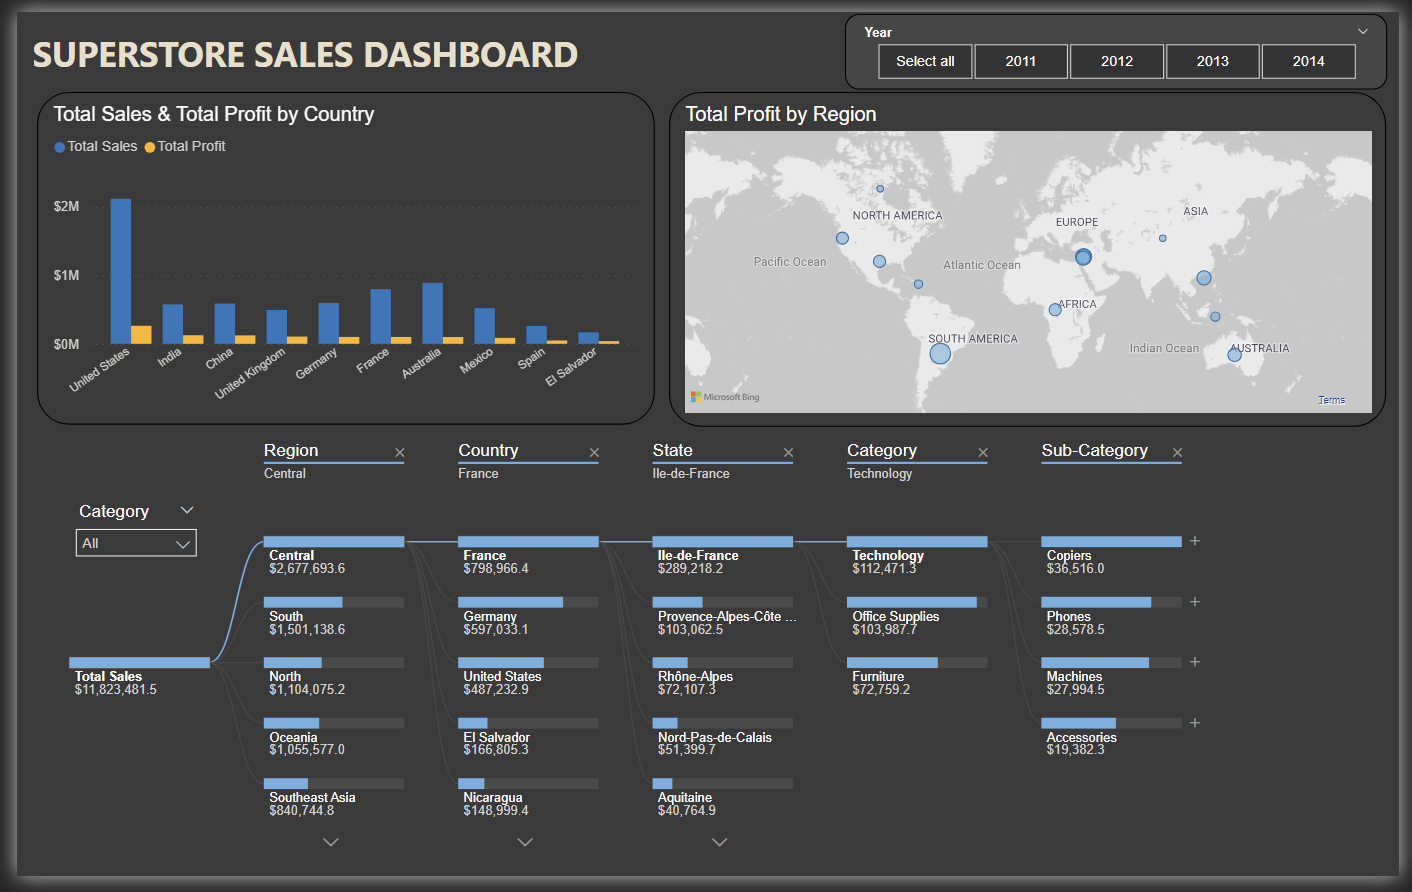

The dashboard page shown, as its layout file describes it:
{"tool":"powerbi","page":{"name":"Geographic Detail","canvas":[1280,800],"ordinal":1},"visuals":[{"type":"textbox","box":[10,11.7,550,61.7],"z":0},{"type":"slicer","fields":{"Values":["DimDate.Year"]},"box":[766,2,502,70],"z":1000},{"type":"decompositionTreeVisual","fields":{"Analyze":["_Measure.Total Sales"],"ExplainBy":["Orders.Region","Orders.Country","Orders.State","Orders.Category Hierarchy.Category","Orders.Category Hierarchy.Sub-Category","Orders.City","Orders.Category Hierarchy.Product Name"]},"box":[18,382,1252,418],"z":2000},{"type":"slicer","fields":{"Values":["Orders.Category Hierarchy.Category"]},"box":[44,448,132,76],"z":4000},{"type":"map","fields":{"Size":["_Measure.Total Profit"],"Category":["Orders.Region"]},"box":[604,74,664,310],"z":5000},{"type":"lineClusteredColumnComboChart","title":"Total Sales & Total Profit by Country","fields":{"Category":["Orders.City Hierarchy.City","Orders.City Hierarchy.Country","Orders.City Hierarchy.Market","Orders.City Hierarchy.Region"],"Y":["_Measure.Total Sales","_Measure.Total Profit"]},"box":[18,74,572,308],"z":5001}]}

Visuals, with their boxes in screenshot pixels (x1, y1, x2, y2), scaled from the page's 1280x800 canvas onto the 1412x892 screenshot:
textbox: {"left": 11, "top": 13, "right": 618, "bottom": 82}
slicer - DimDate.Year: {"left": 845, "top": 2, "right": 1399, "bottom": 80}
decompositionTreeVisual - _Measure.Total Sales x Orders.Region: {"left": 20, "top": 426, "right": 1401, "bottom": 891}
slicer - Orders.Category Hierarchy.Category: {"left": 49, "top": 500, "right": 194, "bottom": 584}
map - _Measure.Total Profit x Orders.Region: {"left": 666, "top": 83, "right": 1399, "bottom": 428}
"Total Sales & Total Profit by Country" lineClusteredColumnComboChart: {"left": 20, "top": 83, "right": 651, "bottom": 426}
